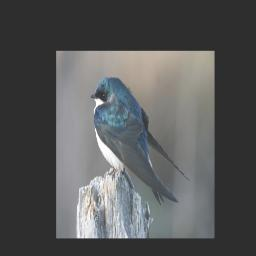Swallow: (91, 76, 191, 205)
